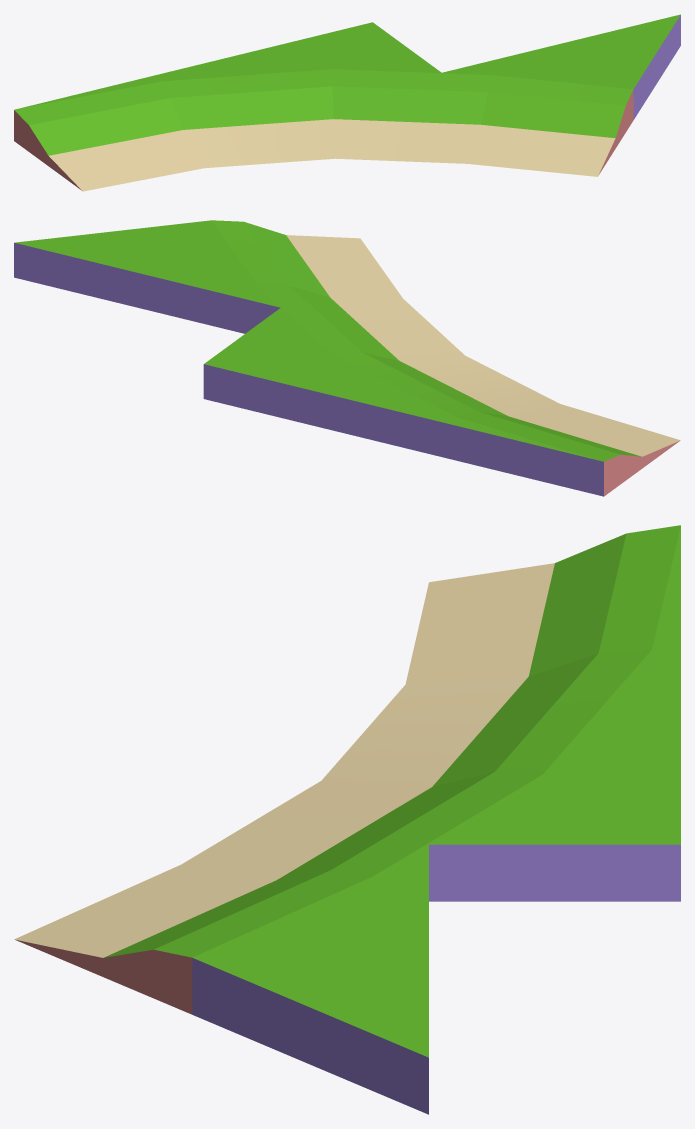
Rendered from Path_Terrain_45_Degrees_Curve_Outer_3x5.glb.
3 views of the same model, one above another, from view 1: azimuth 30°, elevation 25°; view 2: azimuth 150°, elevation 25°; view 3: azimuth 270°, elevation 25° (orthographic). The views are drawn at different scales.
Visible parts, largest first — view 1: Path_Terrain_45_Degrees_Curve_Outer_3x5; view 2: Path_Terrain_45_Degrees_Curve_Outer_3x5; view 3: Path_Terrain_45_Degrees_Curve_Outer_3x5.
Part boxes in pixels (x1,y1,x2,y2): Path_Terrain_45_Degrees_Curve_Outer_3x5: (14,14,680,191); Path_Terrain_45_Degrees_Curve_Outer_3x5: (14,220,680,496); Path_Terrain_45_Degrees_Curve_Outer_3x5: (14,525,680,1114).
Bounding box in the file's own units: 500 × 25 × 265.
